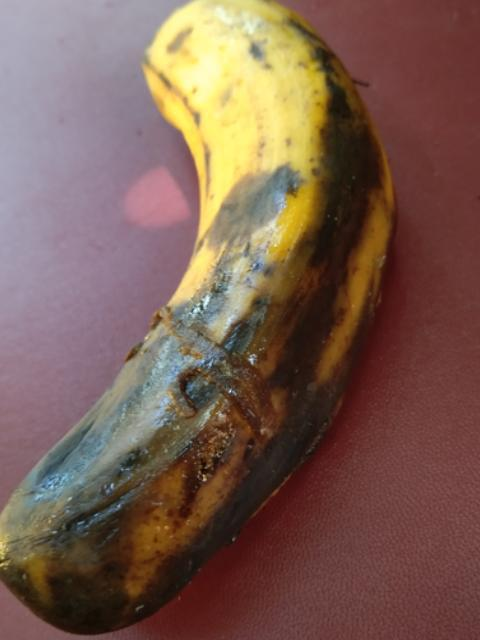rotten: (0, 7, 402, 636)
